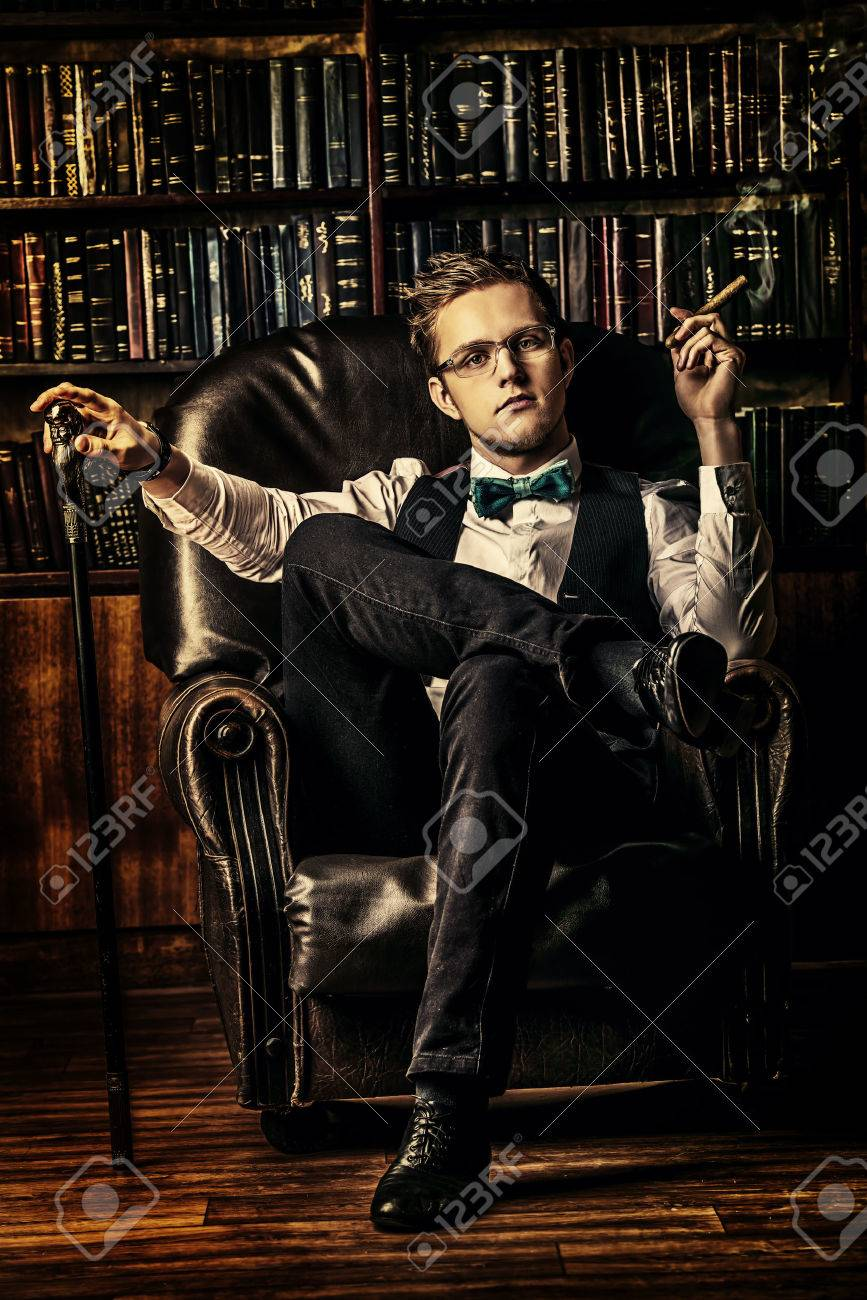chairs: (132, 319, 830, 1124)
